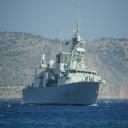Fragata: (23, 4, 107, 107)
